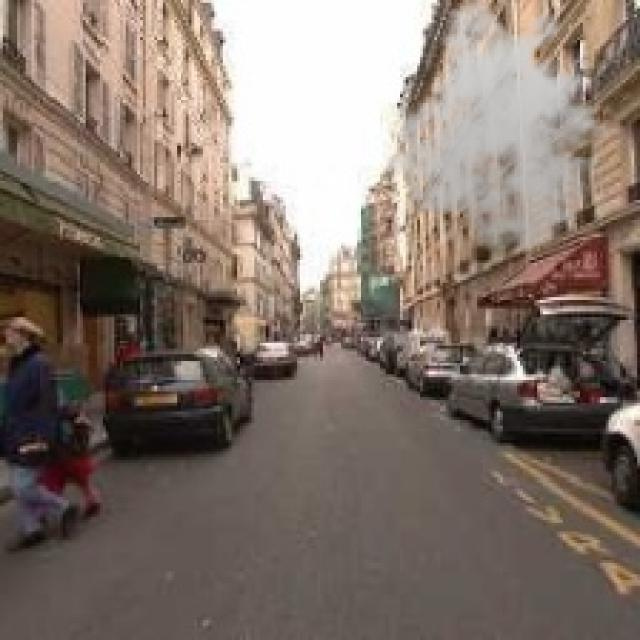smoke: (380, 0, 626, 252)
